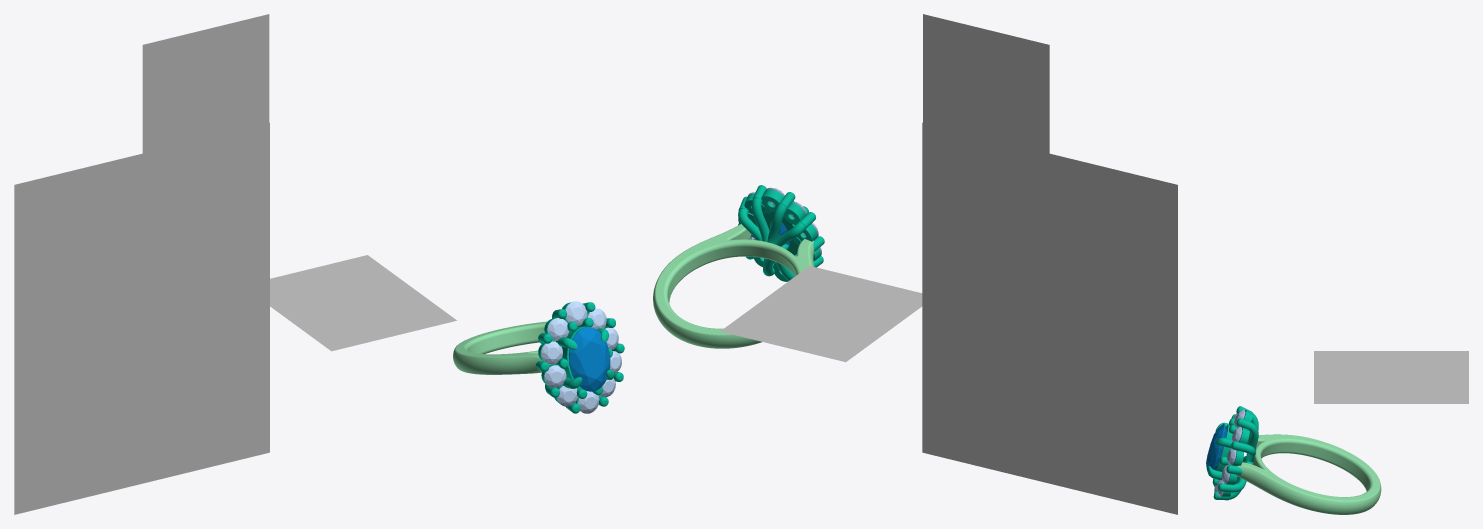
3 views of the same model, side by side, from view 1: azimuth 30°, elevation 25°; view 2: azimuth 150°, elevation 25°; view 3: azimuth 270°, elevation 25° (orthographic). The views are drawn at different scales.
Parts seen in each view (by area): view 1: VR328 25.7.25(base).3dm, Diamond_Oval; view 2: VR328 25.7.25(base).3dm; view 3: VR328 25.7.25(base).3dm, Diamond_Oval.
Part boxes in pixels (x1,y1,x2,y2): VR328 25.7.25(base).3dm: [14, 14, 624, 514]; Diamond_Oval: [569, 327, 610, 391]; VR328 25.7.25(base).3dm: [653, 14, 1177, 514]; VR328 25.7.25(base).3dm: [1212, 351, 1468, 514]; Diamond_Oval: [1206, 423, 1226, 475].
Size of the model in its own units: 8.99 by 6.82 by 4.29.
